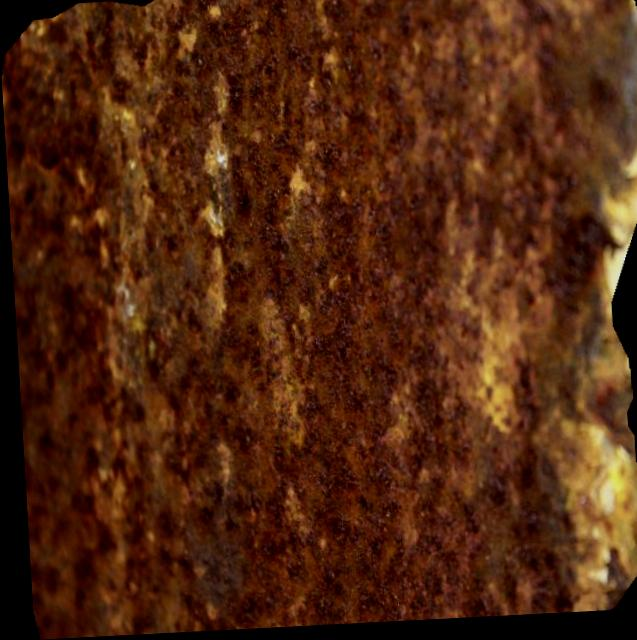Pitting Corrosion: (1, 0, 637, 640)
